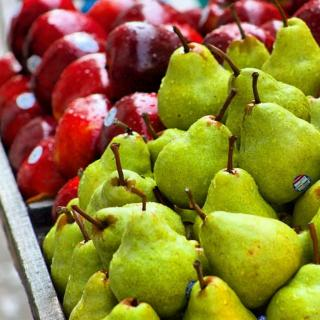Apple: (0, 0, 319, 220), (200, 211, 312, 311)
Pear: (42, 0, 320, 319)
